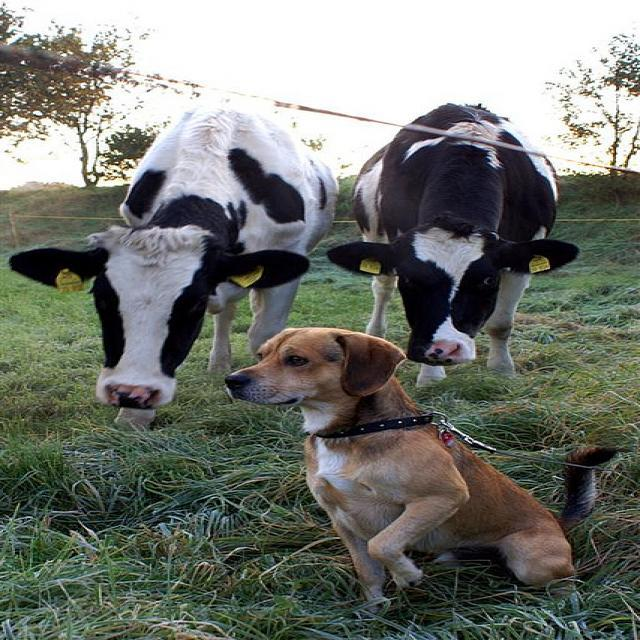cow: (14, 92, 334, 428), (333, 93, 591, 387)
